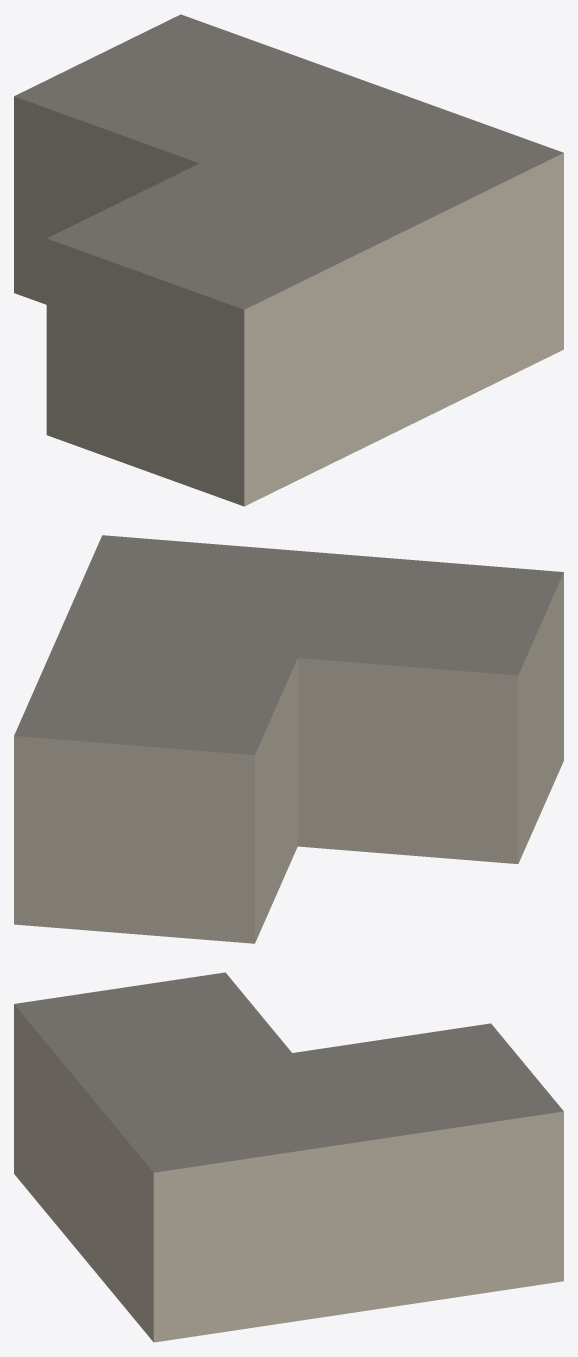
3 views of the same model, one above another, from view 1: azimuth 30°, elevation 25°; view 2: azimuth 150°, elevation 25°; view 3: azimuth 270°, elevation 25° (orthographic). The views are drawn at different scales.
Visible parts, largest first — view 1: HP-w781767763; view 2: HP-w781767763; view 3: HP-w781767763.
Part boxes in pixels (box(x1,y1,x2,y2)): HP-w781767763: box(14, 14, 563, 506); HP-w781767763: box(14, 535, 563, 943); HP-w781767763: box(14, 972, 563, 1342).
Bounding box in the file's own units: 45.54 × 18 × 52.83.
